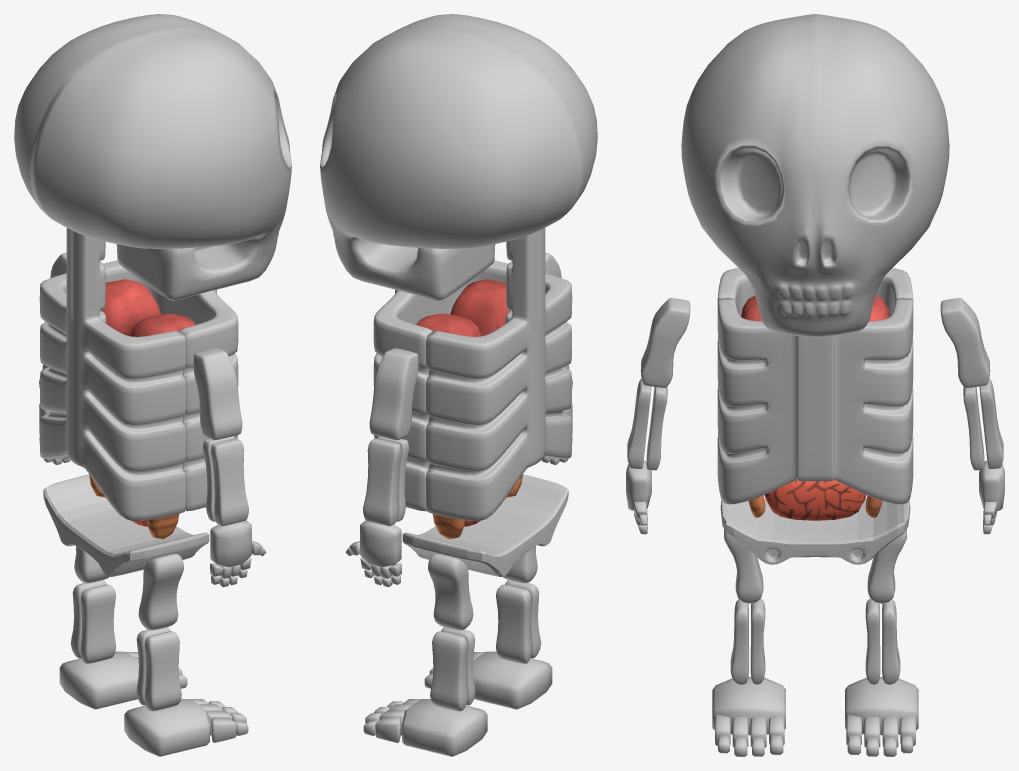
File: JangGis_UV.fbx
The picture shows the model from 3 angles, left to right: view 1: azimuth 30°, elevation 25°; view 2: azimuth 150°, elevation 25°; view 3: azimuth 270°, elevation 25°; orthographic projection. The views are drawn at different scales.
Parts seen in each view (by area): view 1: Head, Rib.Back, Pelvis, Arm.L, Rib, Reg.L, Foot.L, Reg.R, Foot.R, Lung, Hand.L, Intestine_L; view 2: Head, Rib.Back, Pelvis, Arm.R, Rib, Reg.R, Foot.R, Reg.L, Foot.L, Lung, Hand.R, Intestine_L; view 3: Head, Rib, Pelvis, Arm.L, Arm.R, Foot.L, Foot.R, Reg.L, Reg.R, Intestine_S, Rib.Back, Hand.L (+2 smaller).
Boxes of the visible parts, left/top/right/bottom form: Head: left=14, top=14, right=291, bottom=300; Rib.Back: left=39, top=228, right=185, bottom=521; Pelvis: left=43, top=474, right=209, bottom=576; Arm.L: left=193, top=348, right=248, bottom=526; Rib: left=103, top=260, right=238, bottom=511; Reg.L: left=136, top=553, right=183, bottom=711; Foot.L: left=124, top=699, right=248, bottom=756; Reg.R: left=70, top=546, right=115, bottom=663; Foot.R: left=59, top=651, right=187, bottom=709; Lung: left=101, top=279, right=195, bottom=336; Hand.L: left=210, top=520, right=266, bottom=587; Intestine_L: left=89, top=474, right=179, bottom=539; Head: left=320, top=14, right=597, bottom=300; Rib.Back: left=426, top=228, right=572, bottom=521; Pelvis: left=402, top=474, right=568, bottom=576; Arm.R: left=363, top=348, right=418, bottom=526; Rib: left=373, top=260, right=508, bottom=511; Reg.R: left=428, top=553, right=475, bottom=711; Foot.R: left=363, top=699, right=487, bottom=756; Reg.L: left=496, top=546, right=541, bottom=663; Foot.L: left=424, top=651, right=552, bottom=709; Lung: left=416, top=279, right=510, bottom=336; Hand.R: left=345, top=520, right=401, bottom=587; Intestine_L: left=432, top=474, right=522, bottom=539; Head: left=681, top=14, right=949, bottom=337; Rib: left=717, top=298, right=913, bottom=504; Pelvis: left=720, top=498, right=910, bottom=564; Arm.L: left=627, top=298, right=690, bottom=470; Arm.R: left=940, top=298, right=1003, bottom=470; Foot.L: left=712, top=677, right=785, bottom=756; Foot.R: left=845, top=677, right=918, bottom=756; Reg.L: left=724, top=529, right=765, bottom=684; Reg.R: left=865, top=529, right=906, bottom=684; Intestine_S: left=764, top=480, right=866, bottom=520; Rib.Back: left=717, top=268, right=913, bottom=440; Hand.L: left=626, top=460, right=651, bottom=534.
Bounding box in the file's own units: 14.26 × 36.72 × 18.06.
